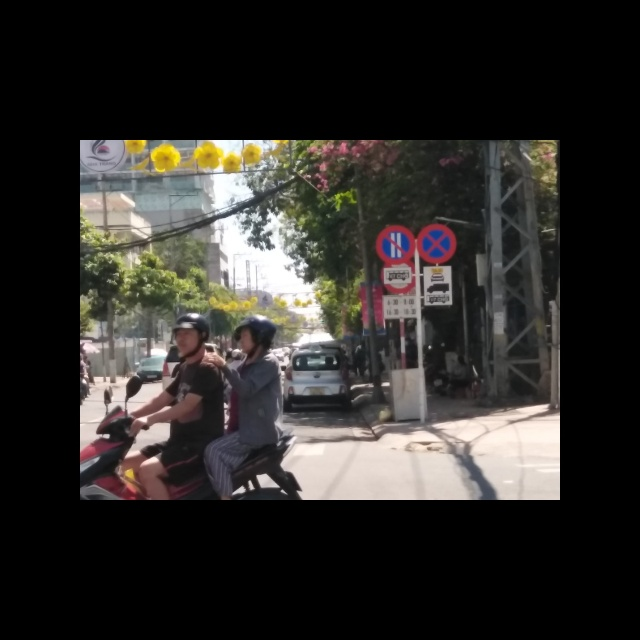Cấm dừng xe và đỗ xe: (416, 223, 457, 264)
Cấm đỗ xe ngày chẵn: (374, 224, 416, 265)
